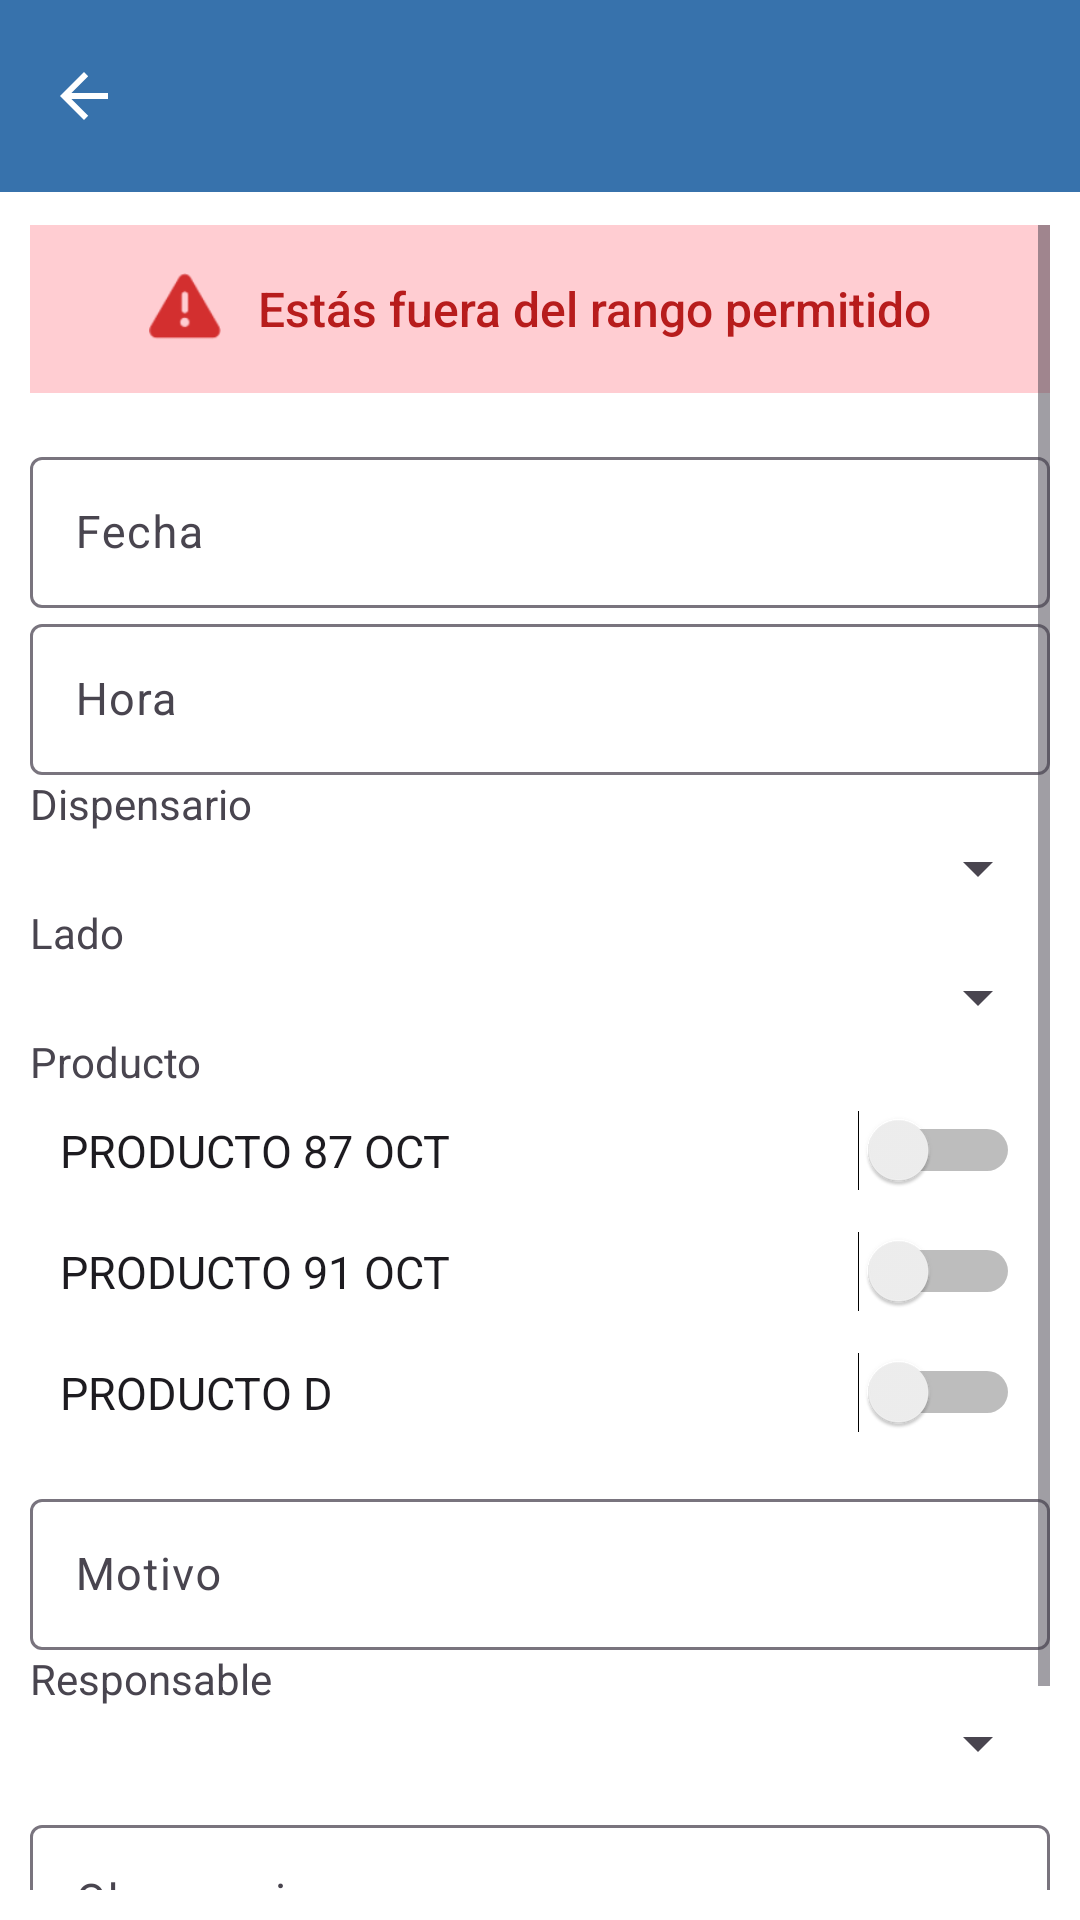

Icon click points for this 1080w x 1920h phone screenshot, format [x,y]:
alert: [185,306]
